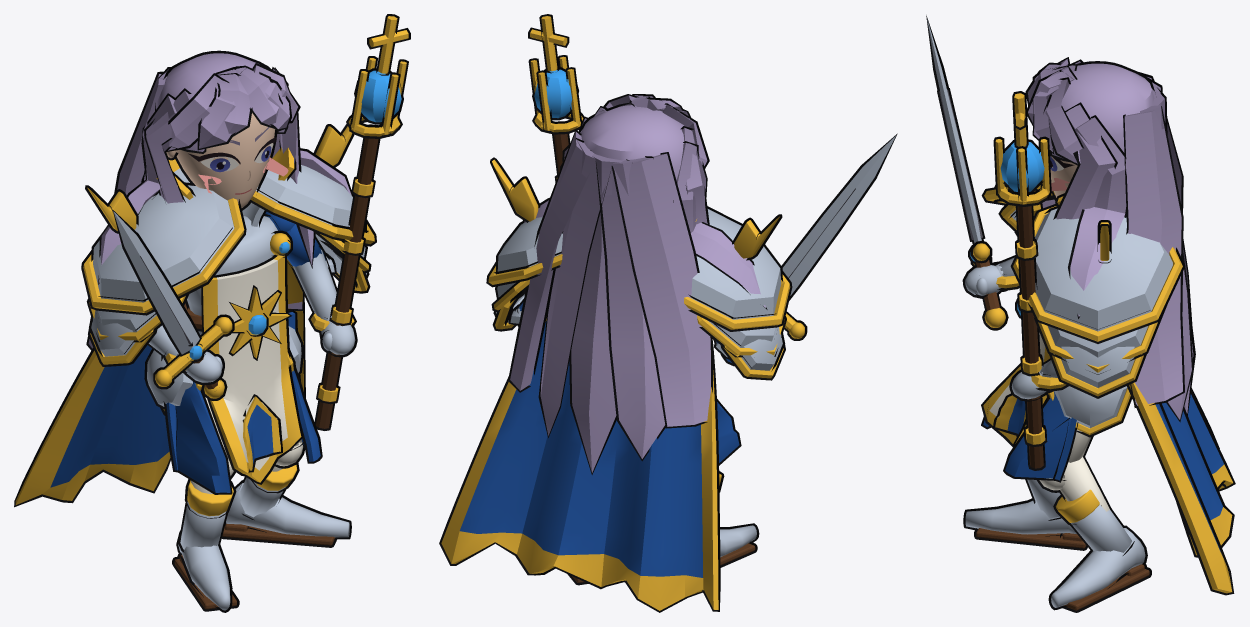
File: brenna.glb
3 views of the same model, side by side, from view 1: azimuth 30°, elevation 25°; view 2: azimuth 150°, elevation 25°; view 3: azimuth 270°, elevation 25° (orthographic). The views are drawn at different scales.
Visible parts, largest first — view 1: head, torso, cape, arm_r, fore_l, arm_l, hips, fore_r, shin_l, shin_r, head_ink, fore_l_ink (+8 smaller); view 2: head, cape, arm_r, head_ink, arm_l, fore_l, fore_r, cape_ink, arm_r_ink, fore_l_ink, arm_l_ink, fore_r_ink (+2 smaller); view 3: head, arm_l, cape, fore_l, shin_l, hips, fore_r, head_ink, shin_r, fore_l_ink, cape_ink, fore_r_ink (+8 smaller).
Part boxes in pixels (<box>): head: <box>88,53,351,348</box>; torso: <box>156,147,301,482</box>; cape: <box>15,259,303,504</box>; arm_r: <box>83,185,244,364</box>; fore_l: <box>293,16,408,428</box>; arm_l: <box>250,126,374,291</box>; hips: <box>147,312,320,492</box>; fore_r: <box>113,211,232,398</box>; shin_l: <box>222,464,349,545</box>; shin_r: <box>174,440,236,610</box>; head_ink: <box>86,50,353,350</box>; fore_l_ink: <box>290,14,410,430</box>; head: <box>510,95,765,472</box>; cape: <box>441,318,718,610</box>; arm_r: <box>684,209,790,378</box>; head_ink: <box>508,94,767,474</box>; arm_l: <box>488,159,562,329</box>; fore_l: <box>510,16,583,323</box>; fore_r: <box>716,136,895,357</box>; cape_ink: <box>439,341,720,612</box>; arm_r_ink: <box>688,206,792,380</box>; fore_l_ink: <box>508,14,584,325</box>; arm_l_ink: <box>486,157,561,331</box>; fore_r_ink: <box>713,133,897,359</box>; head: <box>1028,59,1193,419</box>; arm_l: <box>1013,206,1182,396</box>; cape: <box>1129,382,1232,593</box>; fore_l: <box>995,93,1066,468</box>; shin_l: <box>1051,457,1149,610</box>; hips: <box>983,386,1130,480</box>; fore_r: <box>926,17,1019,327</box>; head_ink: <box>1025,57,1195,422</box>; shin_r: <box>965,479,1086,548</box>; fore_l_ink: <box>993,91,1068,470</box>; cape_ink: <box>1127,385,1235,595</box>; fore_r_ink: <box>926,15,1019,330</box>.
Bounding box in the file's own units: 0.8797 × 1.31 × 0.6886.
